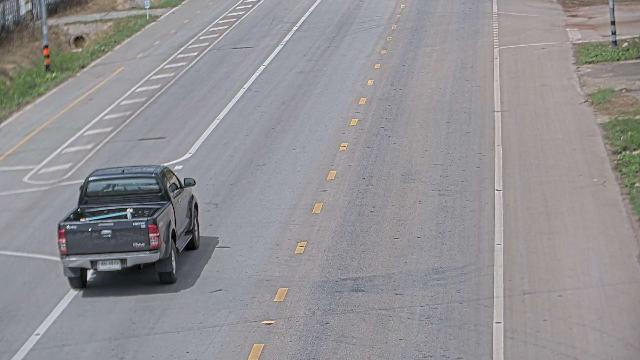pickup-truck: (56, 164, 200, 289)
